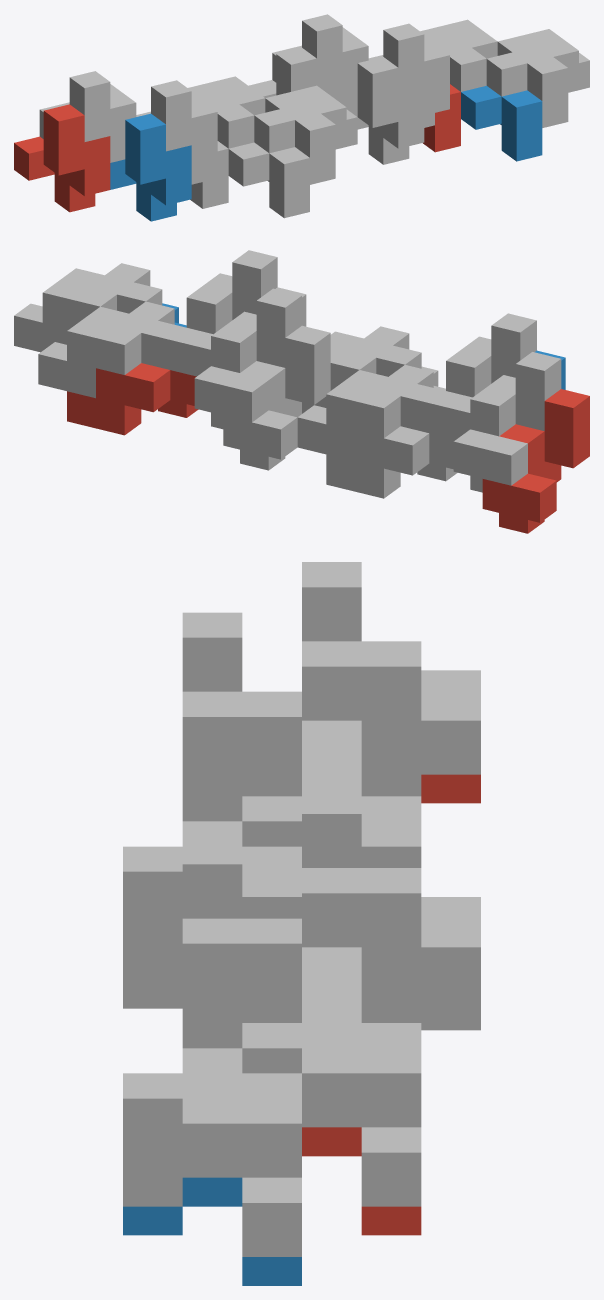
Rendered from tiling.obj.
The picture shows the model from 3 angles, top to bottom: view 1: azimuth 30°, elevation 25°; view 2: azimuth 150°, elevation 25°; view 3: azimuth 270°, elevation 25°; orthographic projection. The views are drawn at different scales.
Visible parts, largest first — view 1: copy_1_domain_1, copy_2_domain_8, copy_2_domain_4, copy_1_domain_2, copy_1_domain_6, copy_1_domain_4, copy_2_domain_6, copy_1_domain_8, copy_2_domain_2, copy_1_domain_3, copy_1_domain_7, copy_2_domain_3 (+4 smaller); view 2: copy_1_domain_3, copy_1_domain_7, copy_2_domain_7, copy_2_domain_3, copy_1_domain_5, copy_1_domain_1, copy_2_domain_8, copy_1_domain_4, copy_1_domain_8, copy_2_domain_5, copy_2_domain_1, copy_2_domain_4; view 3: copy_2_domain_8, copy_1_domain_3, copy_1_domain_7, copy_1_domain_4, copy_1_domain_8, copy_2_domain_7, copy_2_domain_4, copy_2_domain_3, copy_2_domain_6, copy_2_domain_5, copy_1_domain_1, copy_1_domain_5 (+1 smaller).
Part boxes in pixels (<box>): copy_1_domain_1: <box>14,104,110,212</box>; copy_2_domain_8: <box>486,29,589,127</box>; copy_2_domain_4: <box>254,85,357,184</box>; copy_1_domain_2: <box>110,113,191,221</box>; copy_1_domain_6: <box>345,57,424,164</box>; copy_1_domain_4: <box>136,80,217,184</box>; copy_2_domain_6: <box>461,85,542,161</box>; copy_1_domain_8: <box>368,23,449,127</box>; copy_2_domain_2: <box>228,142,309,218</box>; copy_1_domain_3: <box>39,71,136,162</box>; copy_1_domain_7: <box>272,14,368,105</box>; copy_2_domain_3: <box>188,76,265,148</box>; copy_1_domain_3: <box>453,352,561,492</box>; copy_1_domain_7: <box>194,288,301,429</box>; copy_2_domain_7: <box>38,301,186,398</box>; copy_2_domain_3: <box>297,365,445,461</box>; copy_1_domain_5: <box>223,325,330,470</box>; copy_1_domain_1: <box>482,389,589,533</box>; copy_2_domain_8: <box>14,263,162,352</box>; copy_1_domain_4: <box>429,313,536,439</box>; copy_1_domain_8: <box>170,250,277,376</box>; copy_2_domain_5: <box>67,363,198,435</box>; copy_2_domain_1: <box>326,426,457,498</box>; copy_2_domain_4: <box>302,326,421,413</box>; copy_2_domain_8: <box>123,1048,301,1256</box>; copy_1_domain_3: <box>302,562,480,796</box>; copy_1_domain_7: <box>302,789,480,1022</box>; copy_1_domain_4: <box>182,612,361,821</box>; copy_1_domain_8: <box>182,839,361,1048</box>; copy_2_domain_7: <box>242,997,421,1206</box>; copy_2_domain_4: <box>123,821,301,979</box>; copy_2_domain_3: <box>242,771,421,867</box>; copy_2_domain_6: <box>123,1177,301,1285</box>; copy_2_domain_5: <box>302,1127,421,1235</box>; copy_1_domain_1: <box>421,774,480,803</box>; copy_1_domain_5: <box>421,1001,480,1030</box>.
Size of the model in its own units: 20 by 5 by 6.
